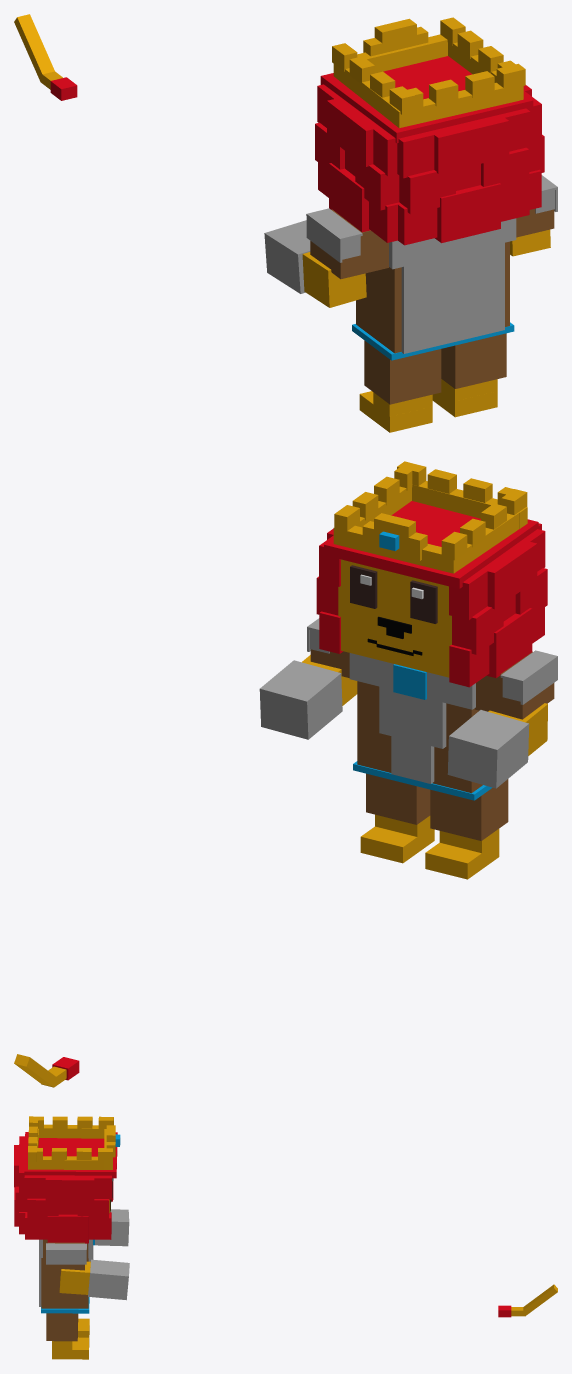
File: Leon.glb
3 renders of one model, top to bottom at view 1: azimuth 30°, elevation 25°; view 2: azimuth 150°, elevation 25°; view 3: azimuth 270°, elevation 25°, orthographic. The views are drawn at different scales.
Visible parts, largest first — view 1: Cubo.056, Cubo.012, Cubo, Cubo.001; view 2: Cubo.056, Cubo.012; view 3: Cubo.056, Cubo.012, Cubo, Cubo.001.
Part boxes in pixels (box(x1,y1,x2,y2)): Cubo.056: box(315, 17, 544, 245); Cubo.012: box(264, 175, 557, 432); Cubo: box(14, 14, 54, 81); Cubo.001: box(40, 71, 77, 100); Cubo.056: box(316, 461, 547, 687); Cubo.012: box(259, 618, 557, 879); Cubo.056: box(14, 1116, 120, 1243); Cubo.012: box(39, 1209, 129, 1359); Cubo: box(523, 1284, 557, 1315); Cubo.001: box(498, 1305, 525, 1317).
Bounding box in the file's own units: 4.15 × 5.99 × 13.82.
